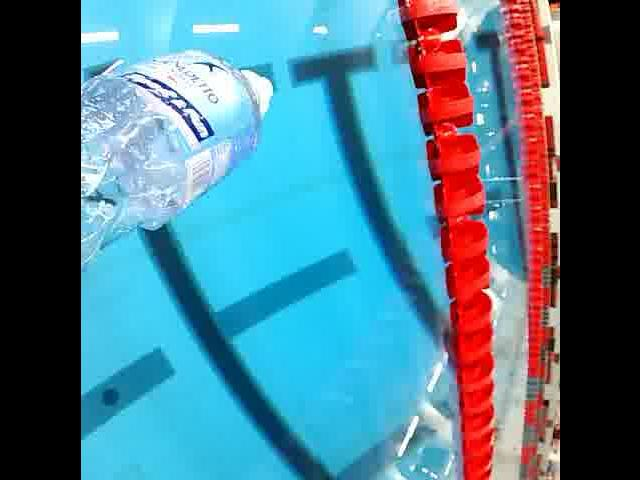Bottle: (80, 44, 280, 266)
